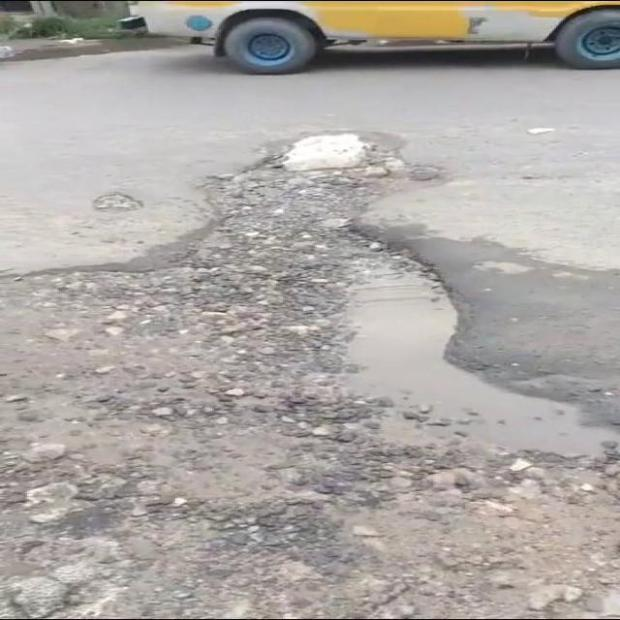lubang: (0, 152, 619, 616), (93, 192, 142, 211)
